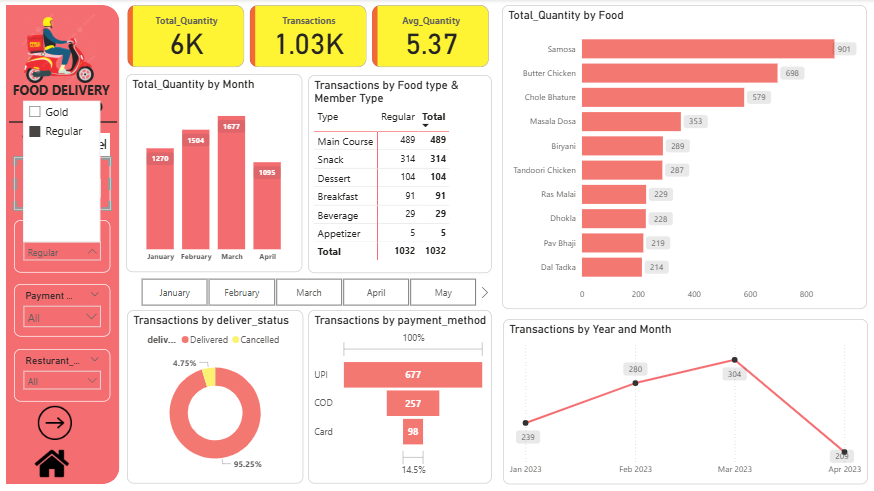

Layout of this report page (visuals, bound fields, positions):
{"tool":"powerbi","page":{"name":"Page 1","canvas":[1280,720],"ordinal":0},"visuals":[{"type":"shape","box":[8.1,8.1,166.3,701.2],"z":0},{"type":"image","box":[7.9,9,158.3,132.3],"z":1000},{"type":"textbox","box":[12.8,116.3,158.1,70.9],"z":2000},{"type":"shape","box":[13.2,165.4,158,29.3],"z":3000},{"type":"cardVisual","fields":{"Data":["Sales Data.Total_Quantity","Sales Data.Transactions","Sales Data.Avg_Quantity"]},"box":[181.4,9.3,539.5,103.5],"z":4000},{"type":"clusteredColumnChart","fields":{"Y":["Sales Data.Total_Quantity"],"Category":["Sales Data.orderDate.Variation.Date Hierarchy.Month"]},"box":[184.9,110.5,258.1,289.5],"z":5000},{"type":"pivotTable","title":"Transactions by Food type & Member Type","fields":{"Rows":["Food_Details.Type"],"Columns":["Customer Details.member_Type"],"Values":["Sales Data.Transactions"]},"box":[451.5,111.1,269,289.5],"z":6000},{"type":"donutChart","fields":{"Category":["Sales Data.deliver_status"],"Y":["Sales Data.Transactions"]},"box":[185.2,455.6,258,253.9],"z":7000},{"type":"funnel","fields":{"Category":["Sales Data.payment_method"],"Y":["Sales Data.Transactions"]},"box":[451.5,455.6,269,253.9],"z":8000},{"type":"clusteredBarChart","fields":{"Y":["Sales Data.Total_Quantity"],"Category":["Food_Details.Food"]},"box":[734.9,9.3,533.7,445.4],"z":9000},{"type":"lineChart","fields":{"Y":["Sales Data.Transactions"],"Category":["Sales Data.orderDate.Variation.Date Hierarchy.Year","Sales Data.orderDate.Variation.Date Hierarchy.Month"]},"box":[735.5,467.9,533.8,241.5],"z":10000},{"type":"slicer","fields":{"Values":["Sales Data.orderDate.Variation.Date Hierarchy.Month"]},"box":[20.6,231.9,141.3,76.8],"z":11000},{"type":"slicer","fields":{"Values":["Customer Details.member_Type"]},"box":[20.6,323.8,141.3,76.8],"z":12000},{"type":"slicer","fields":{"Values":["Sales Data.payment_method"]},"box":[20.6,417.2,141.3,76.8],"z":13000},{"type":"slicer","fields":{"Values":["Resturant_Details.Resturant_type"]},"box":[20.6,511.8,141.3,76.8],"z":14000},{"type":"slicer","fields":{"Values":["Sales Data.orderDate.Variation.Date Hierarchy.Month"]},"box":[180.9,402.5,539.3,53.1],"z":15000},{"type":"image","box":[24.7,194.9,37,31.6],"z":16000},{"type":"textbox","box":[61.7,194.9,123.5,37],"z":17000},{"type":"image","box":[43.9,649.1,64.5,60.4],"z":18000},{"type":"image","box":[46.7,587.3,67.2,67.2],"z":19000}]}

Visuals, with their boxes in screenshot pixels (x1, y1, x2, y2), scaled from the page's 1280x720 canvas onto the 874x491 screenshot:
shape: [6,6,119,484]
image: [5,6,113,96]
textbox: [9,79,117,128]
shape: [9,113,117,133]
cardVisual - Sales Data.Total_Quantity x Sales Data.Transactions: [124,6,492,77]
clusteredColumnChart - Sales Data.Total_Quantity x Sales Data.orderDate.Variation.Date Hierarchy.Month: [126,75,302,273]
"Transactions by Food type & Member Type" pivotTable: [308,76,492,273]
donutChart - Sales Data.deliver_status x Sales Data.Transactions: [126,311,303,484]
funnel - Sales Data.payment_method x Sales Data.Transactions: [308,311,492,484]
clusteredBarChart - Sales Data.Total_Quantity x Food_Details.Food: [502,6,866,310]
lineChart - Sales Data.Transactions x Sales Data.orderDate.Variation.Date Hierarchy.Year: [502,319,867,484]
slicer - Sales Data.orderDate.Variation.Date Hierarchy.Month: [14,158,111,211]
slicer - Customer Details.member_Type: [14,221,111,273]
slicer - Sales Data.payment_method: [14,285,111,337]
slicer - Resturant_Details.Resturant_type: [14,349,111,401]
slicer - Sales Data.orderDate.Variation.Date Hierarchy.Month: [124,274,492,311]
image: [17,133,42,154]
textbox: [42,133,126,158]
image: [30,443,74,484]
image: [32,401,78,446]
